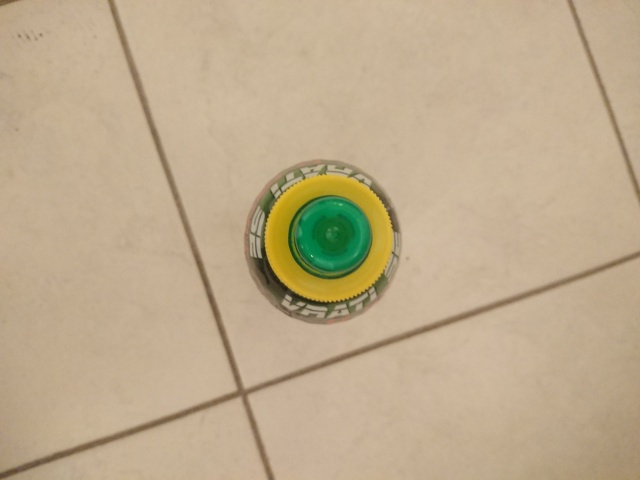Vindi Iso Sport Lemon-Grapefruit 500mL: (240, 156, 405, 328)
